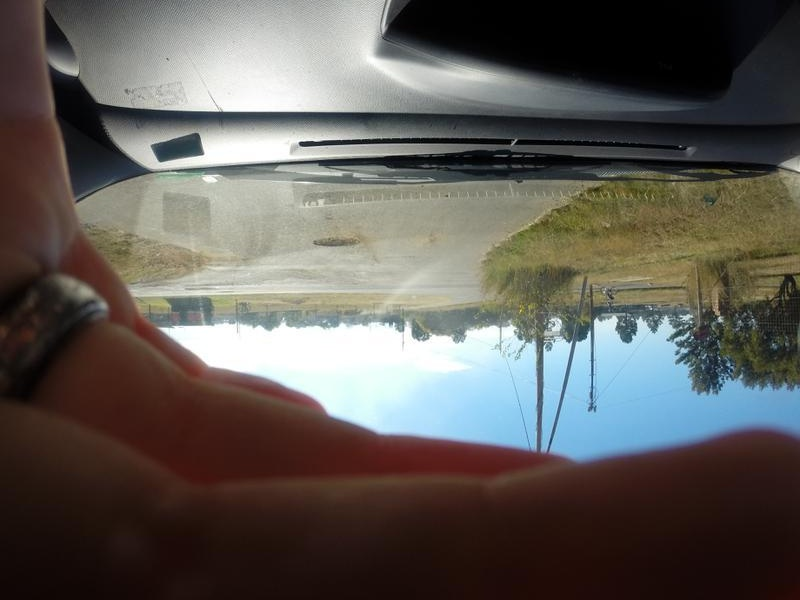pothole: (290, 223, 367, 255)
